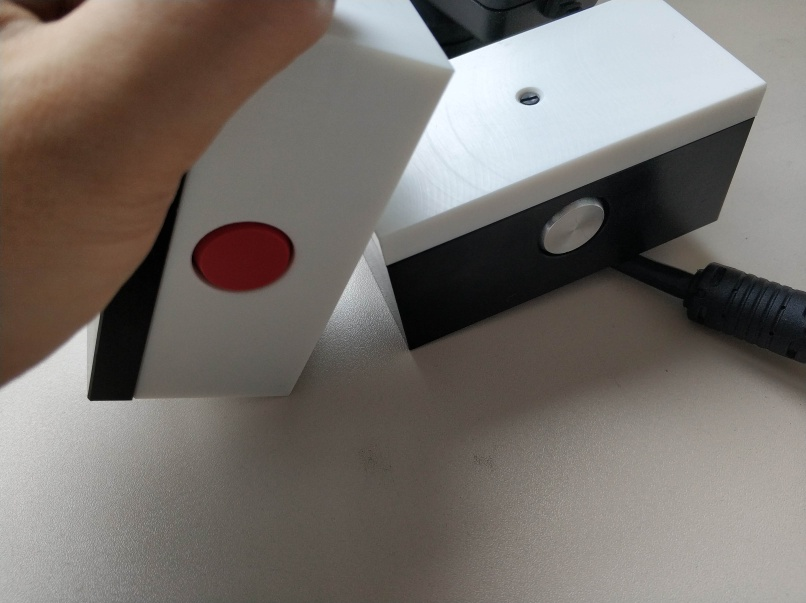black+white+red: (84, 1, 454, 403)
white+black+silver: (360, 1, 770, 357)
